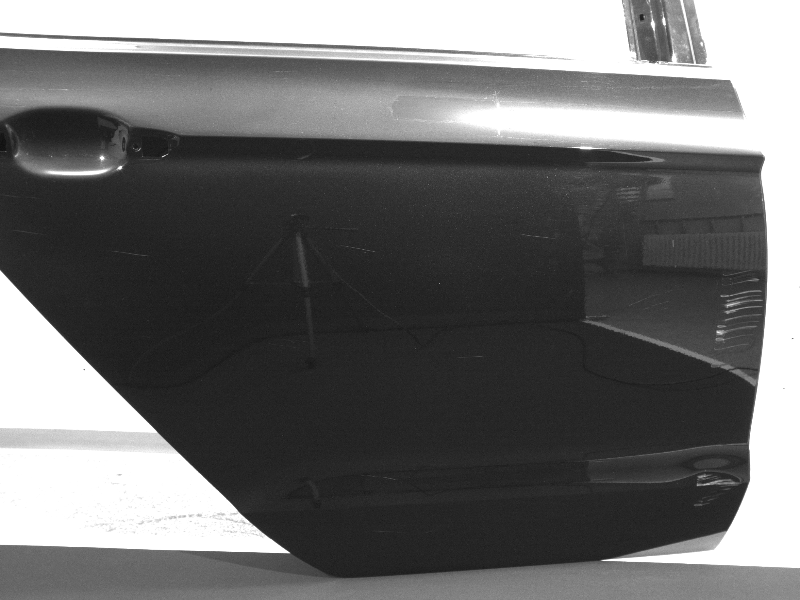scratch: (710, 268, 764, 369), (693, 469, 741, 508), (629, 291, 669, 311), (340, 243, 376, 254), (361, 473, 400, 482), (520, 231, 556, 240), (111, 250, 150, 258), (1, 193, 38, 200), (10, 229, 46, 236), (374, 529, 406, 534), (297, 152, 316, 160), (456, 355, 485, 360), (670, 240, 676, 249)
